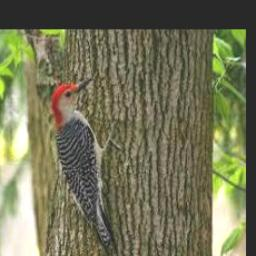Woodpecker: (51, 76, 121, 249)
